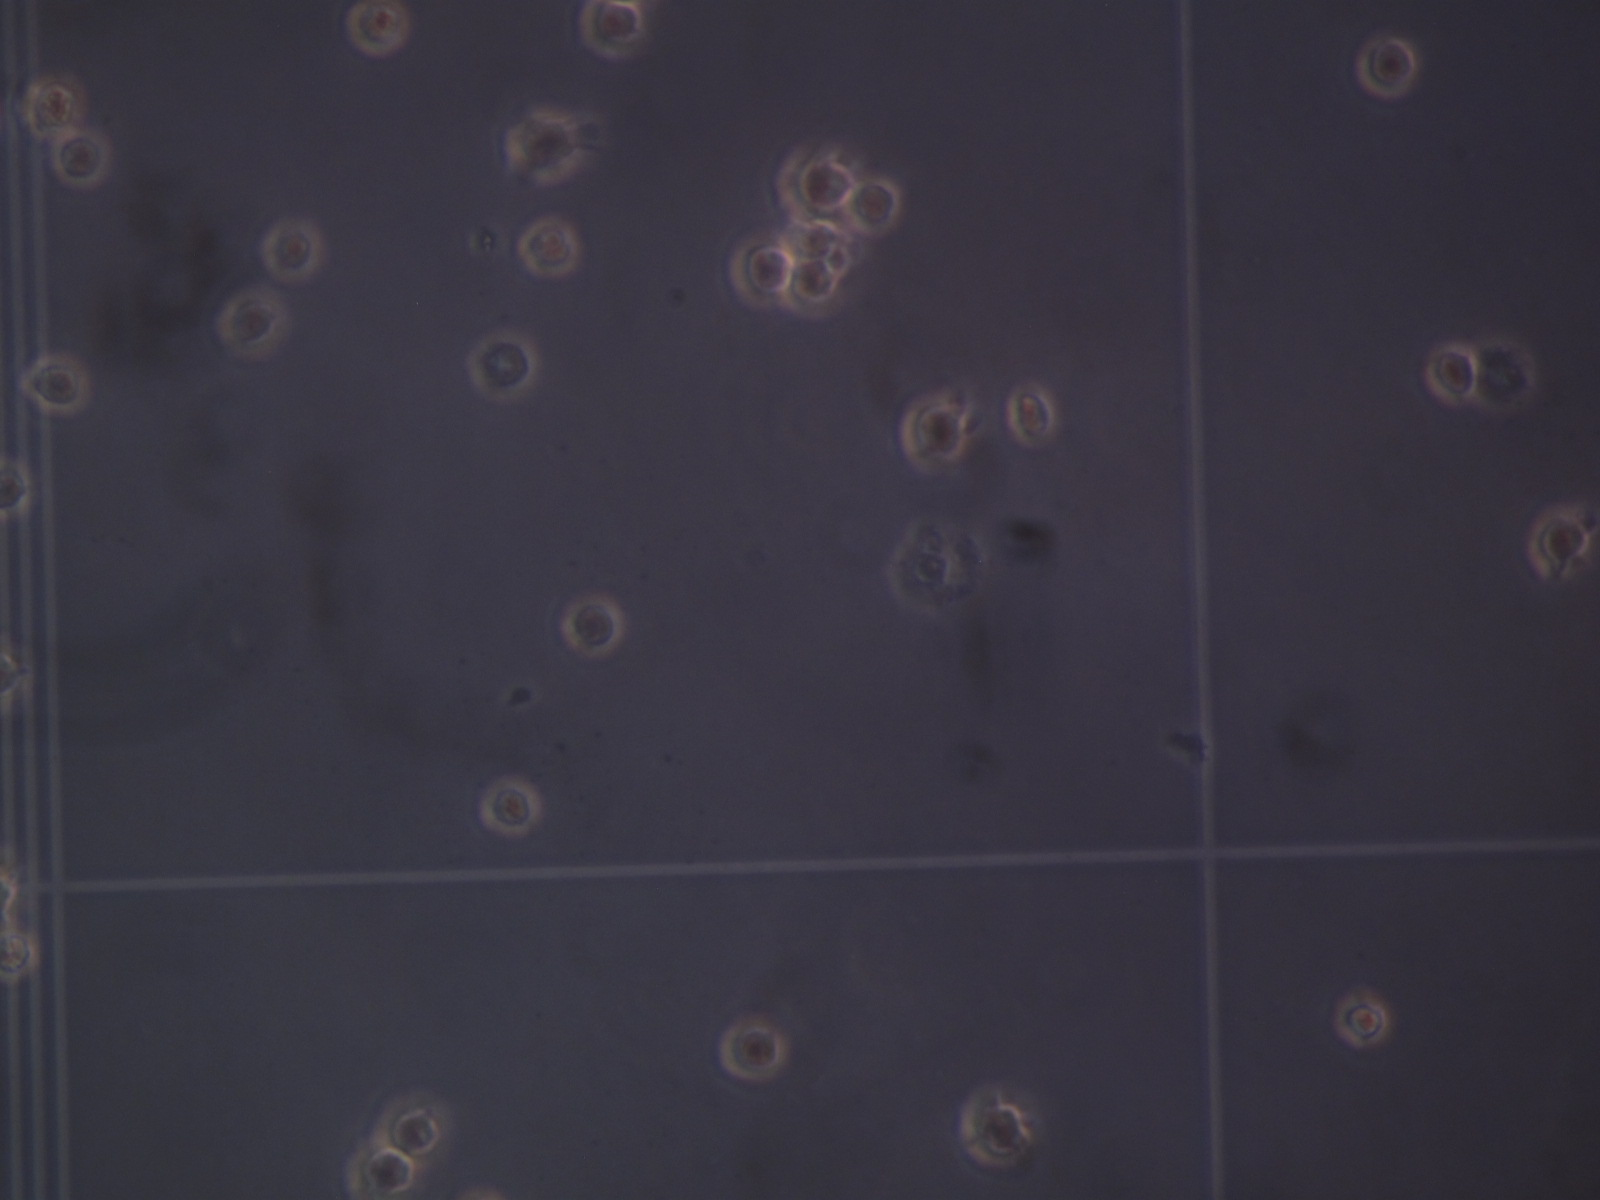hemo: (506, 110, 581, 185), (774, 147, 854, 216), (215, 287, 289, 361), (900, 396, 965, 471), (470, 330, 535, 402), (963, 1100, 1031, 1168), (1526, 509, 1592, 579), (726, 239, 792, 308), (19, 77, 87, 137), (576, 1, 644, 61), (25, 354, 92, 413), (477, 775, 542, 836), (345, 1145, 416, 1199), (377, 1099, 441, 1158), (1356, 37, 1416, 98), (564, 595, 625, 657), (721, 1024, 787, 1079), (260, 219, 317, 282), (519, 217, 578, 277), (346, 1, 408, 59), (48, 131, 110, 187), (792, 258, 847, 318), (1427, 342, 1478, 402), (850, 176, 900, 238), (1335, 998, 1390, 1050), (1007, 387, 1054, 444), (1, 455, 31, 521), (1, 932, 38, 982)
